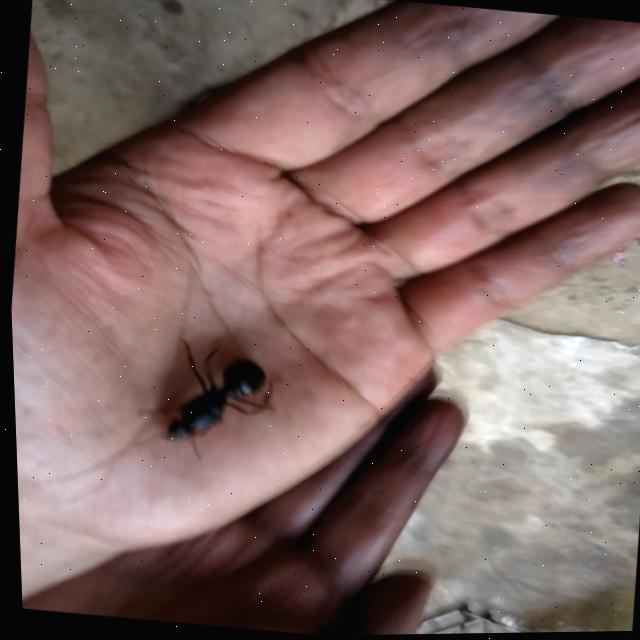Alive-Female-Dealate: (123, 322, 285, 471)
